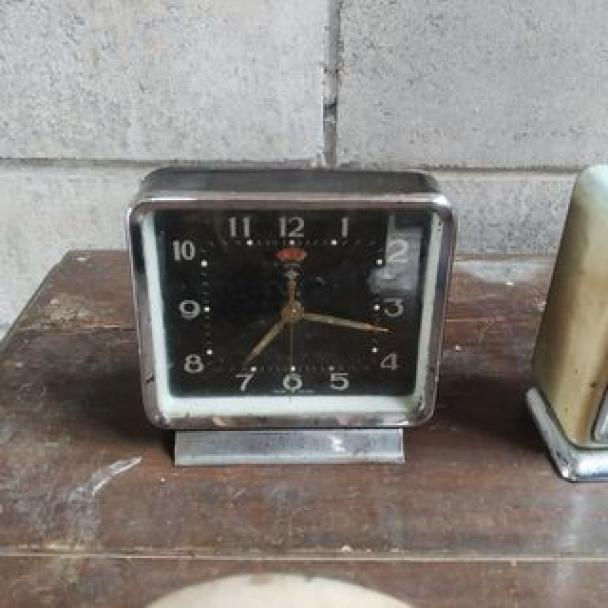Jam: (127, 165, 444, 438)
